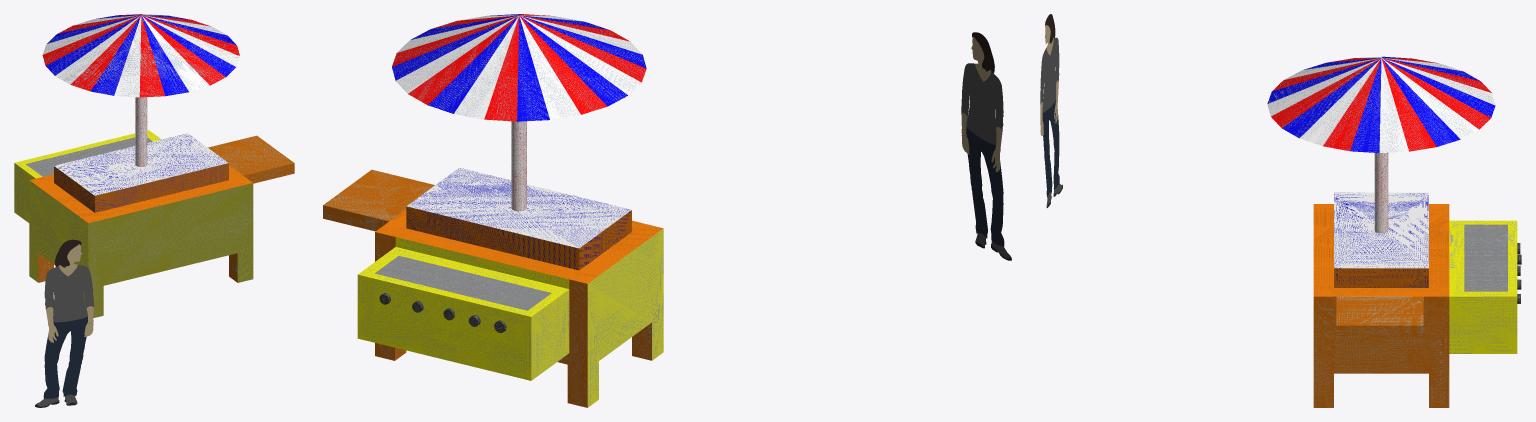
3 views of the same model, side by side, from view 1: azimuth 30°, elevation 25°; view 2: azimuth 150°, elevation 25°; view 3: azimuth 270°, elevation 25° (orthographic). The views are drawn at different scales.
Parts seen in each view (by area): view 1: SketchUp (×24), Susan (×5); view 2: SketchUp (×21), Susan (×2); view 3: SketchUp (×19), Susan (×2).
Boxes of the visible parts, x1,y1,x2,y2 form: SketchUp (×24): (14,14,294,317); Susan (×5): (43,239,93,398); SketchUp (×21): (323,15,663,407); Susan (×2): (961,63,1004,246); SketchUp (×19): (1267,56,1517,407); Susan (×2): (1040,37,1059,197).
Size of the model in its own units: 159 by 152 by 106.
